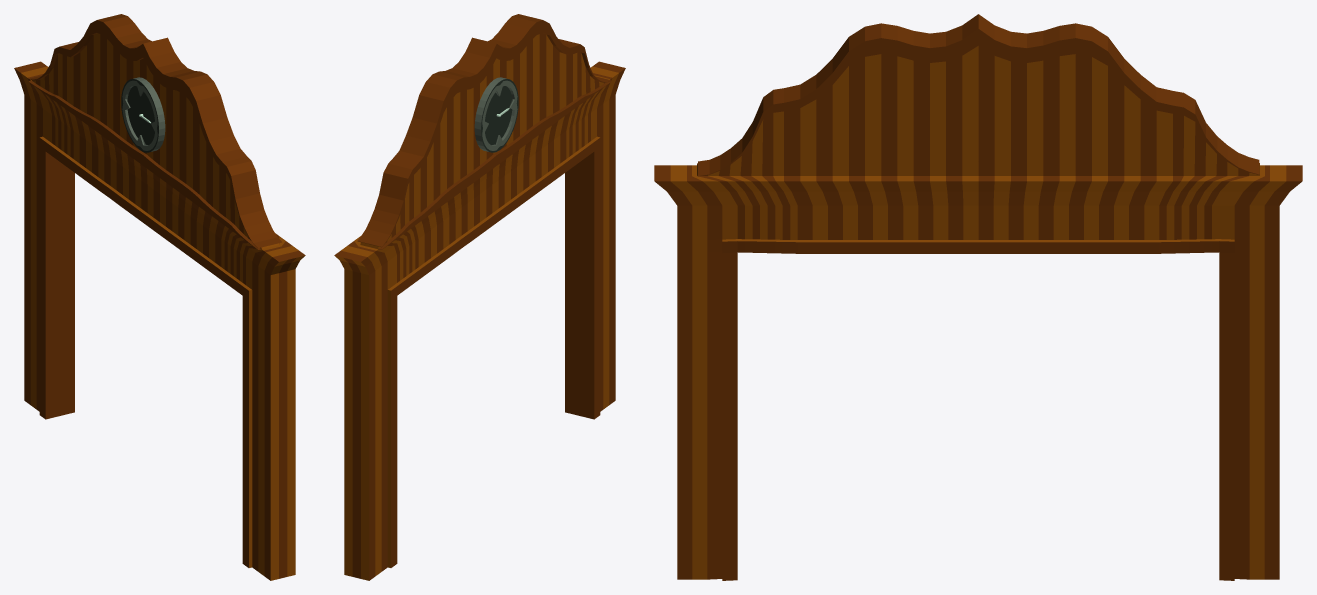
File: PrettyDoor.fbx
3 renders of one model, left to right at view 1: azimuth 30°, elevation 25°; view 2: azimuth 150°, elevation 25°; view 3: azimuth 270°, elevation 25°, orthographic. The views are drawn at different scales.
Visible parts, largest first — view 1: Cube; view 2: Cube; view 3: Cube.
Boxes of the visible parts, x1,y1,x2,y2 form: Cube: [14, 14, 305, 580]; Cube: [334, 14, 625, 580]; Cube: [654, 14, 1302, 580].
Bounding box in the file's own units: 92.02 × 1084 × 1162.
